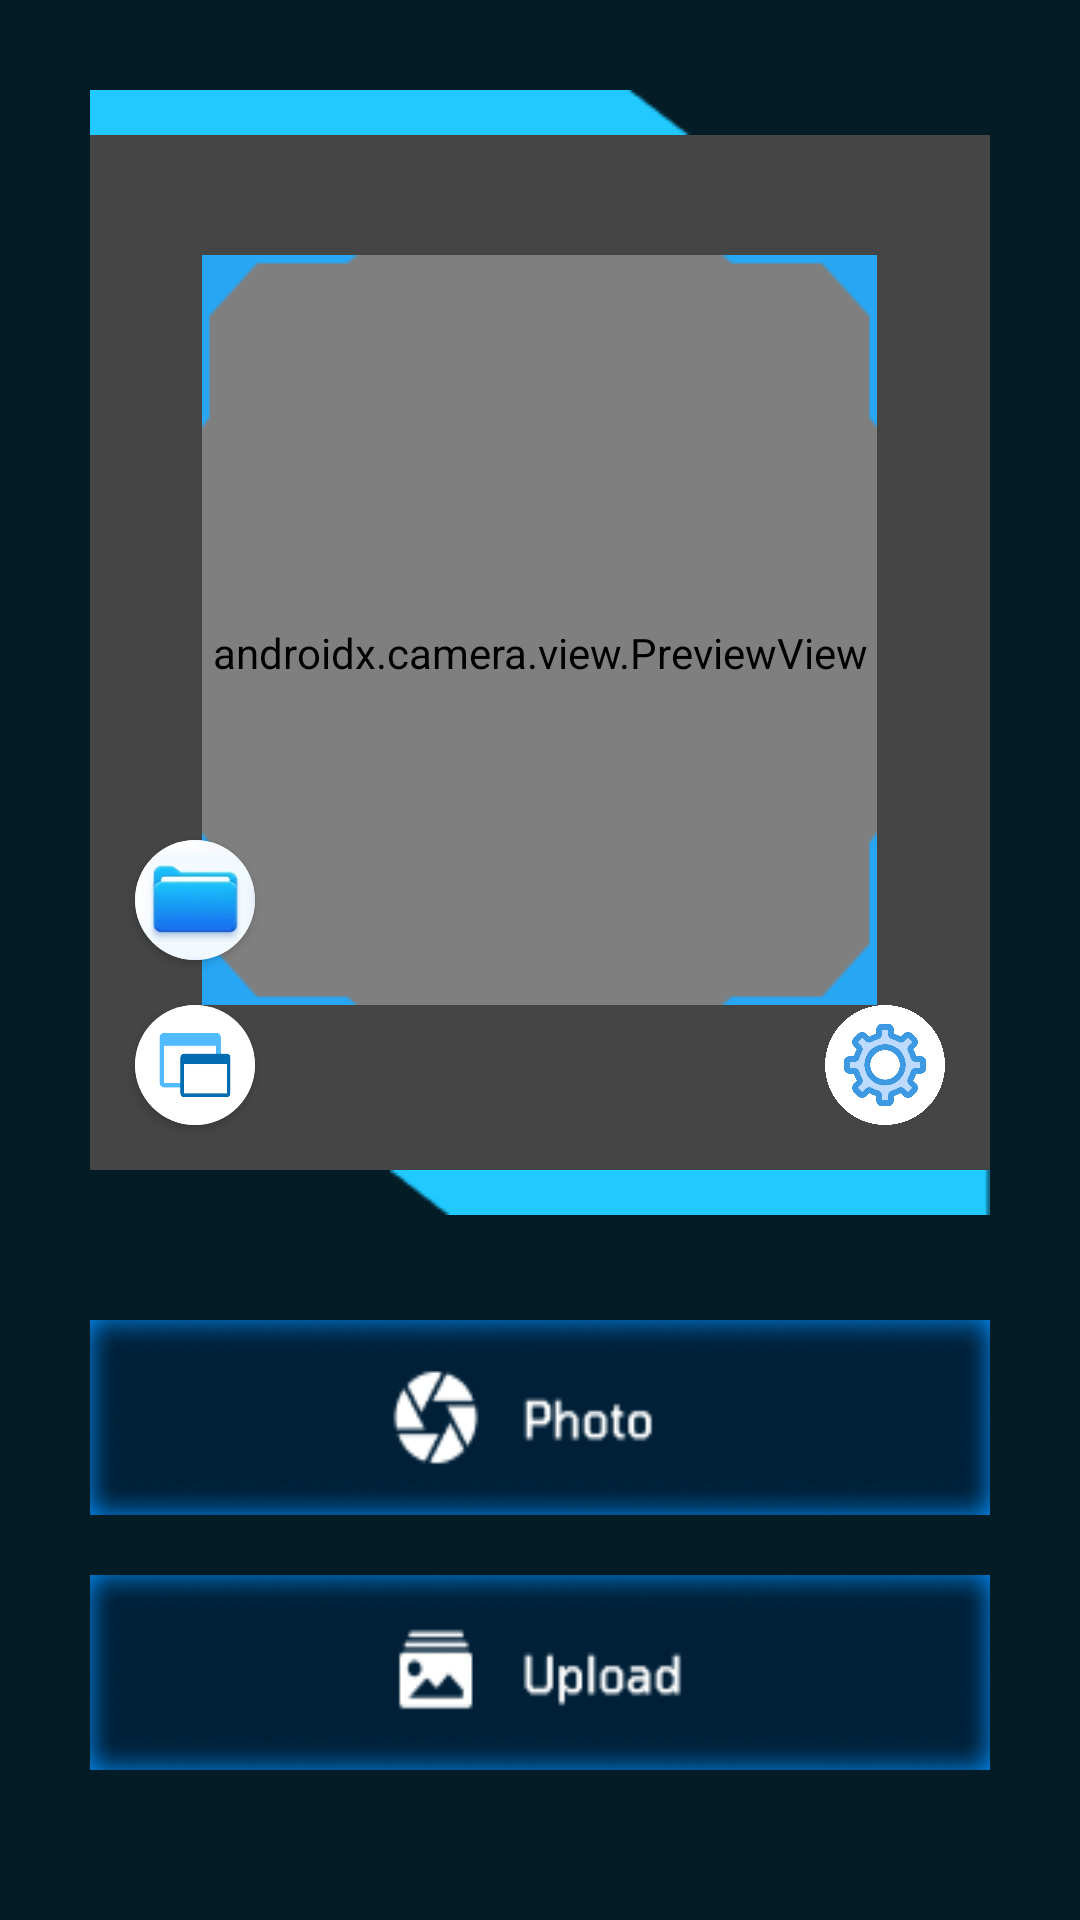

Icons on this 1080×1920 Android screen, each with the point to tap as point (x, y):
floating: point (195, 1065)
folder: point (195, 900)
setting: point (885, 1065)
